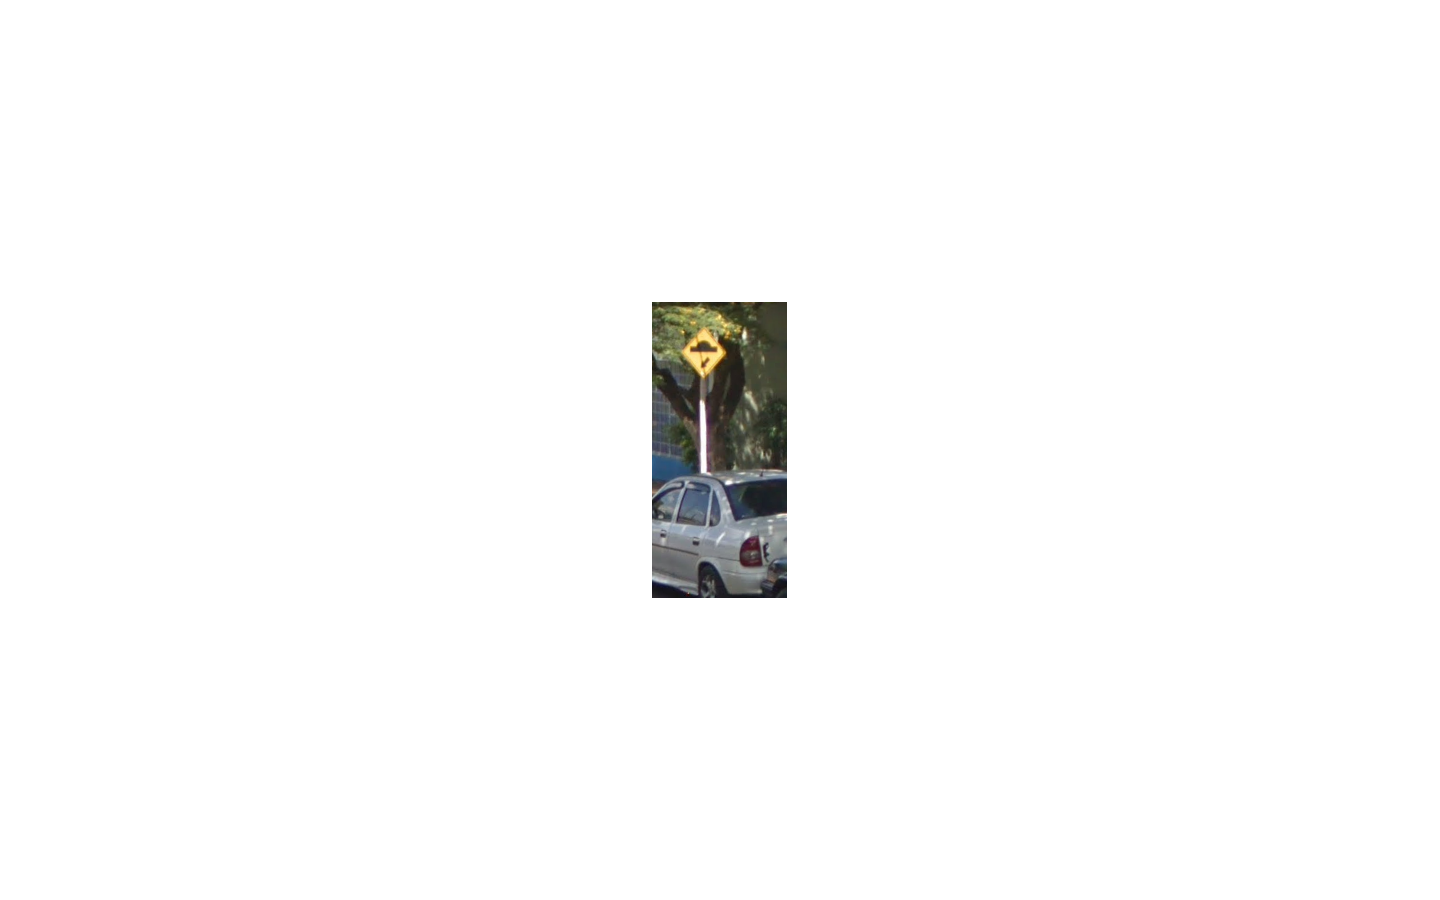lomb: (680, 326, 726, 377)
